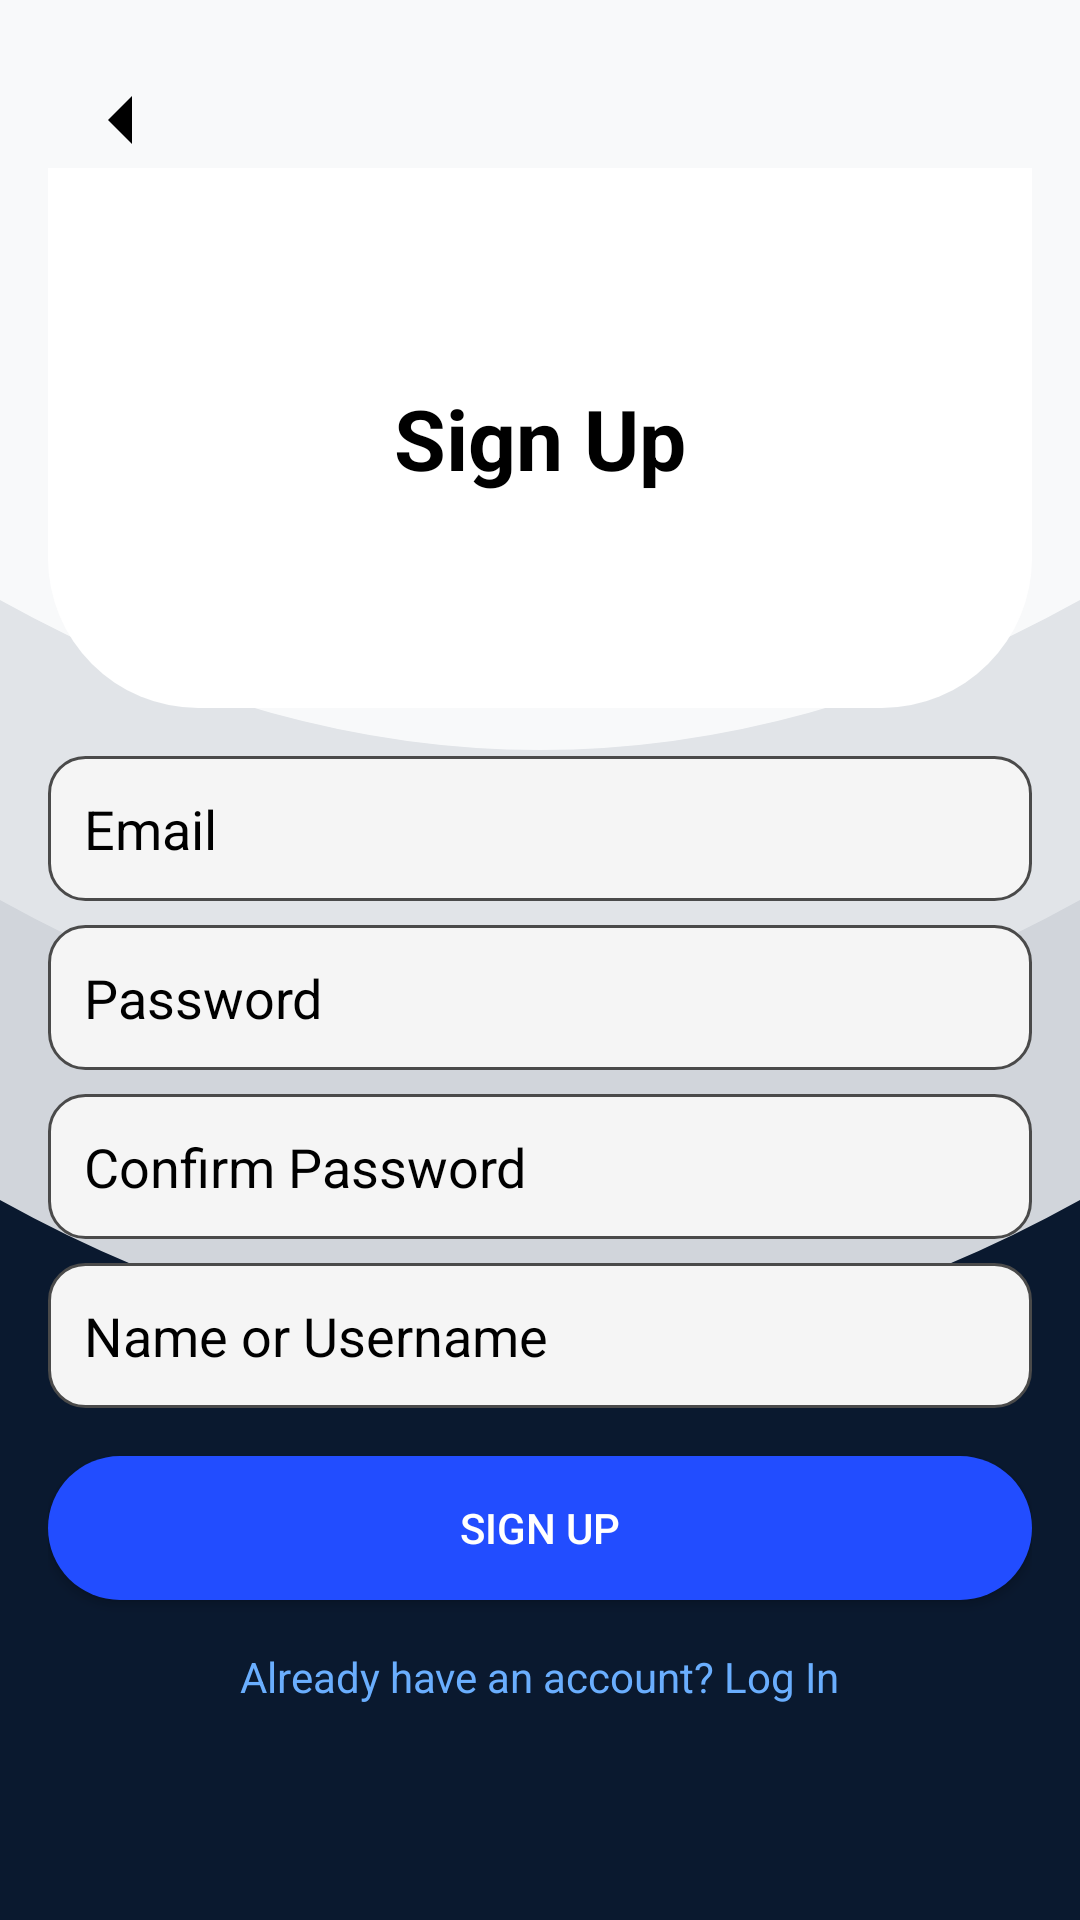

Named icons in this screenshot (1080px x 1920px) and their centers, point (x, y):
Back: point (120, 120)
